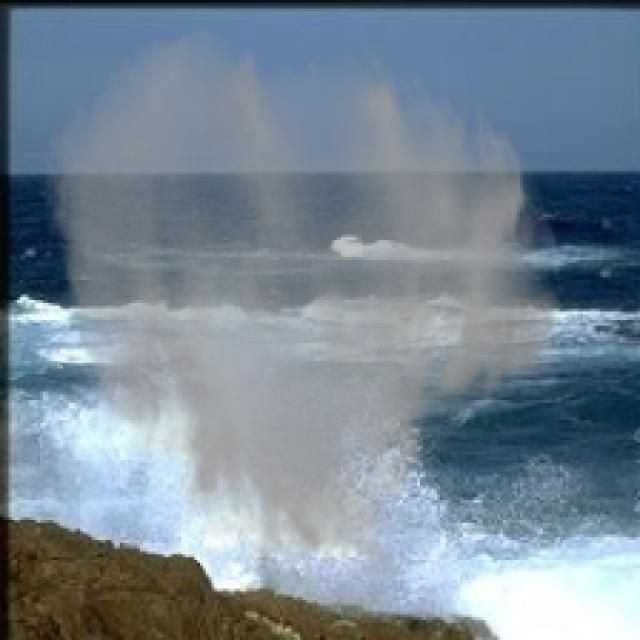smoke: (40, 26, 566, 591)
